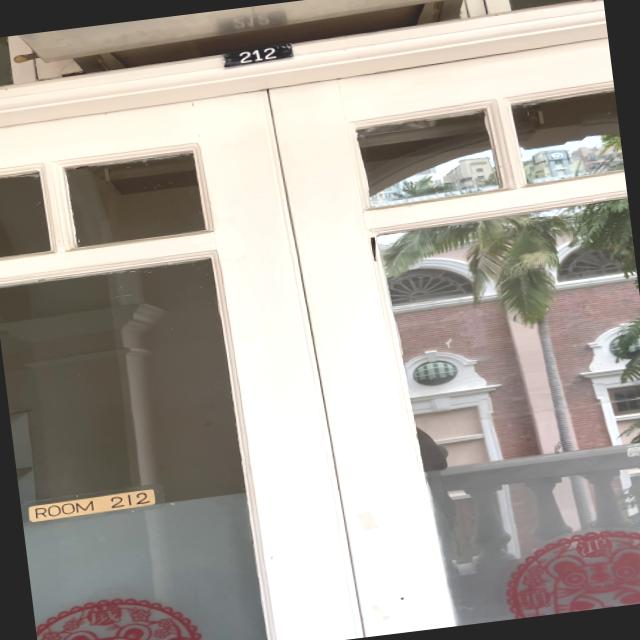room212: (212, 36, 298, 72)
room212Window: (23, 484, 165, 528)
